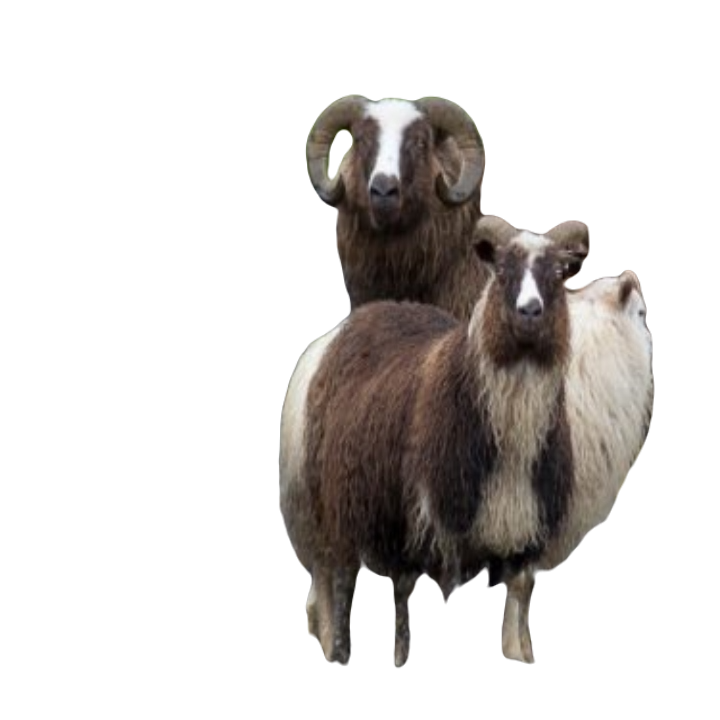Sheep: (299, 215, 595, 666), (299, 88, 495, 320)
